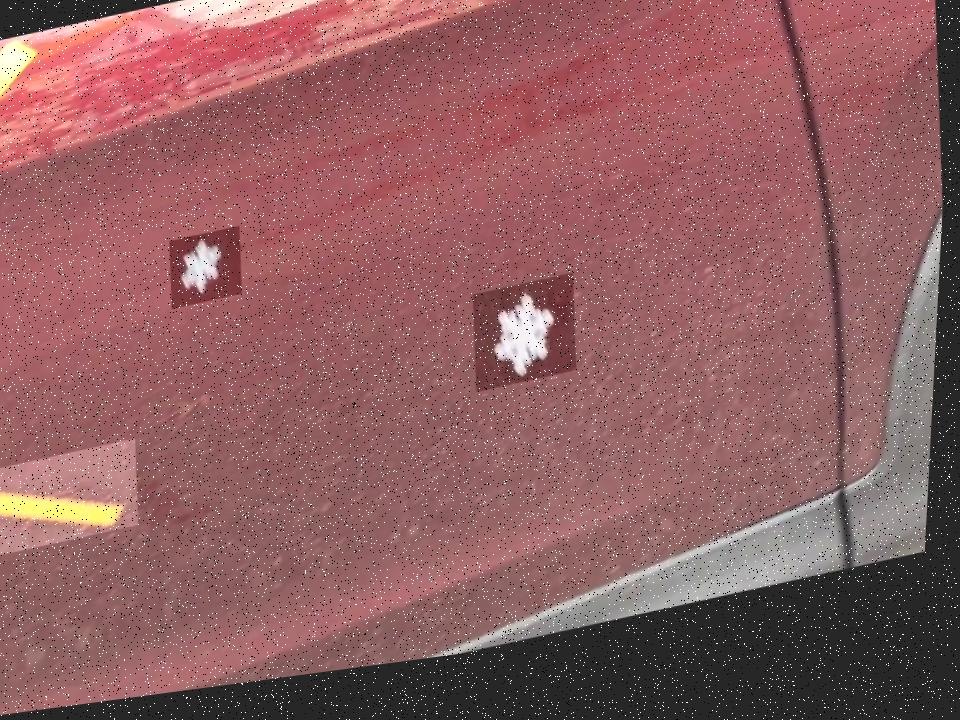dent: (473, 289, 585, 408), (170, 232, 249, 315)
scratch: (0, 442, 147, 560)
